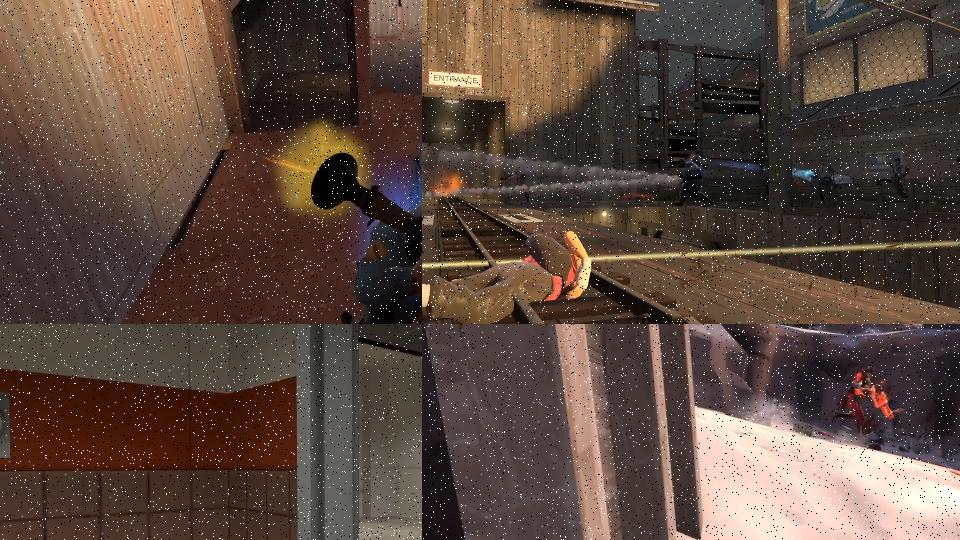Enemy: (294, 149, 422, 324), (422, 229, 595, 324), (640, 148, 715, 209), (833, 367, 894, 439), (795, 160, 844, 201), (876, 157, 910, 197)
